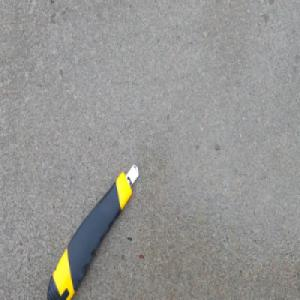Cutter: (46, 161, 139, 300)
